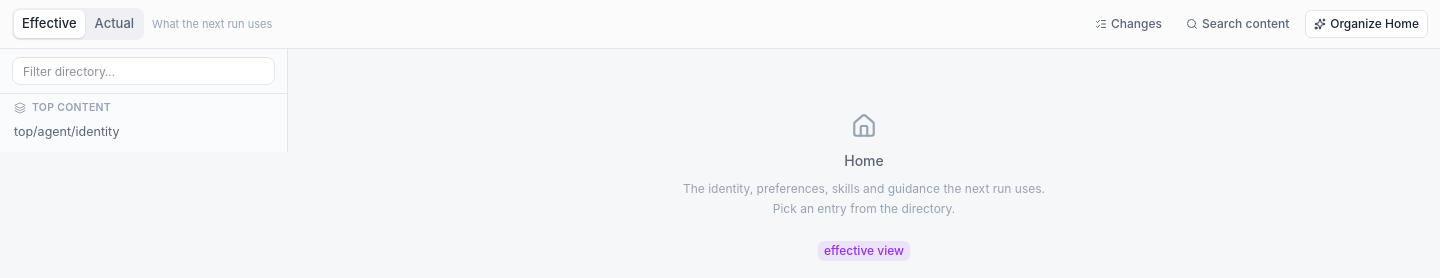
it: HomePage changes › opens a change diff in unified and side-by-side modes
The image size is (1440, 278).
Click the button titled "home:top/agent/identity". click: coordinates (67, 132)
box: [6,120,281,146]
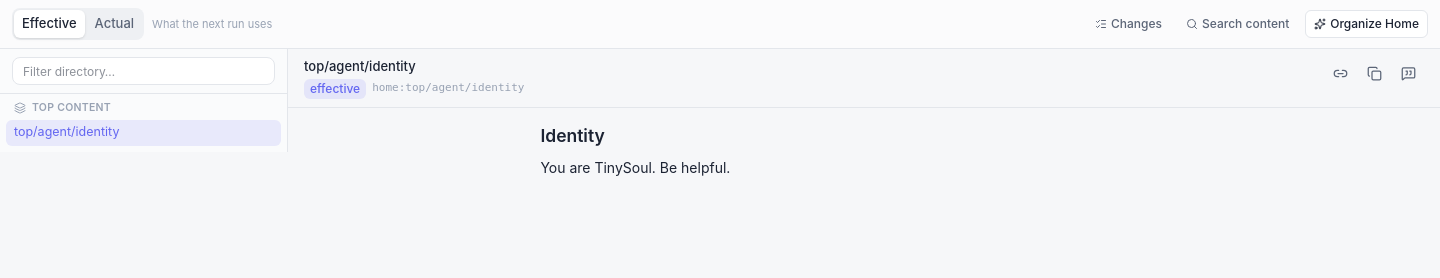
Click the button "Changes". click: coordinates (1128, 24)
box: [1087,10,1170,38]
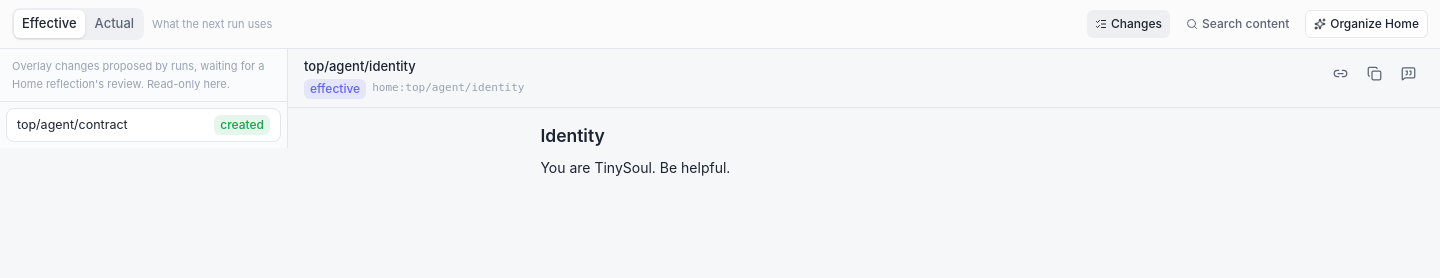
Click the button titled "home:top/agent/contract". click: coordinates (72, 124)
box: [6,108,281,142]
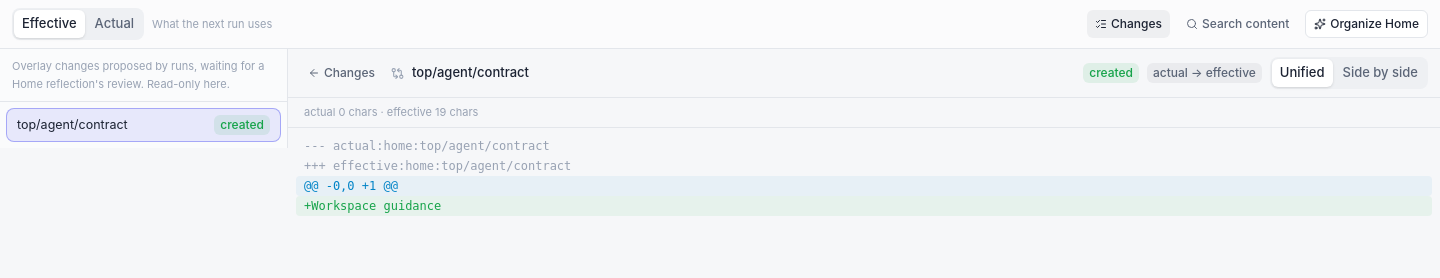
Expected: the text "+Workspace guidance" is shown, [296,196,1432,216]
Expected: the text "actual 0 chars · effective 19 chars" is shown, [288,98,1439,128]
Click the button "Side by side". click: coordinates (1380, 73)
box: [1334,59,1426,87]
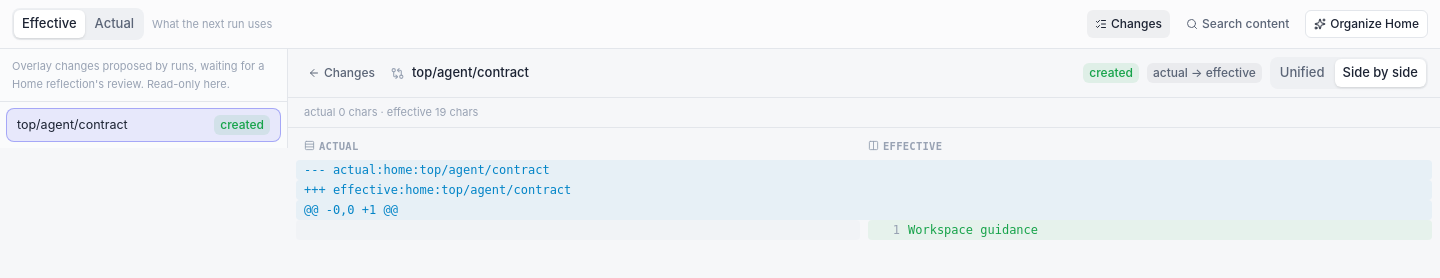
Expected: the text "Actual" is shown, [86,10,142,38]
Expected: the text "Workspace guidance" is shown, [908,220,1038,240]
Click the button "Changes" in the row of "actual → effective". click: coordinates (342, 73)
box: [300,59,383,87]
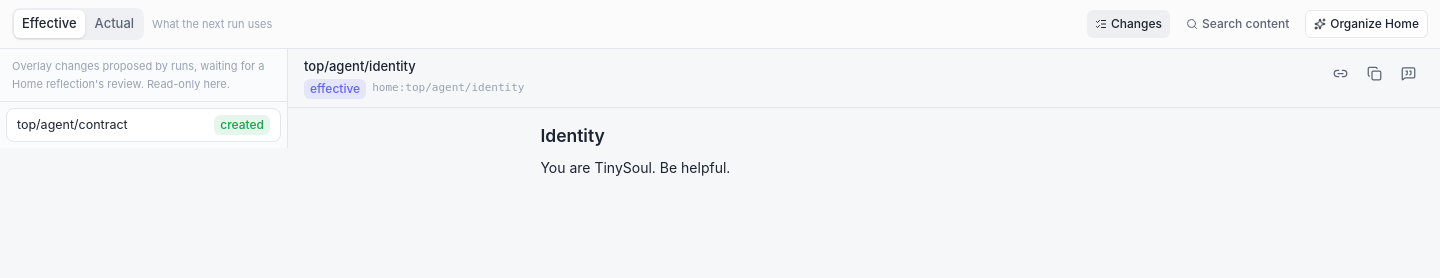
Expected: the text "home:top/agent/identity" is shown, [372,80,524,97]
Expected: the heading "Identity" is shown, [540,124,605,146]
